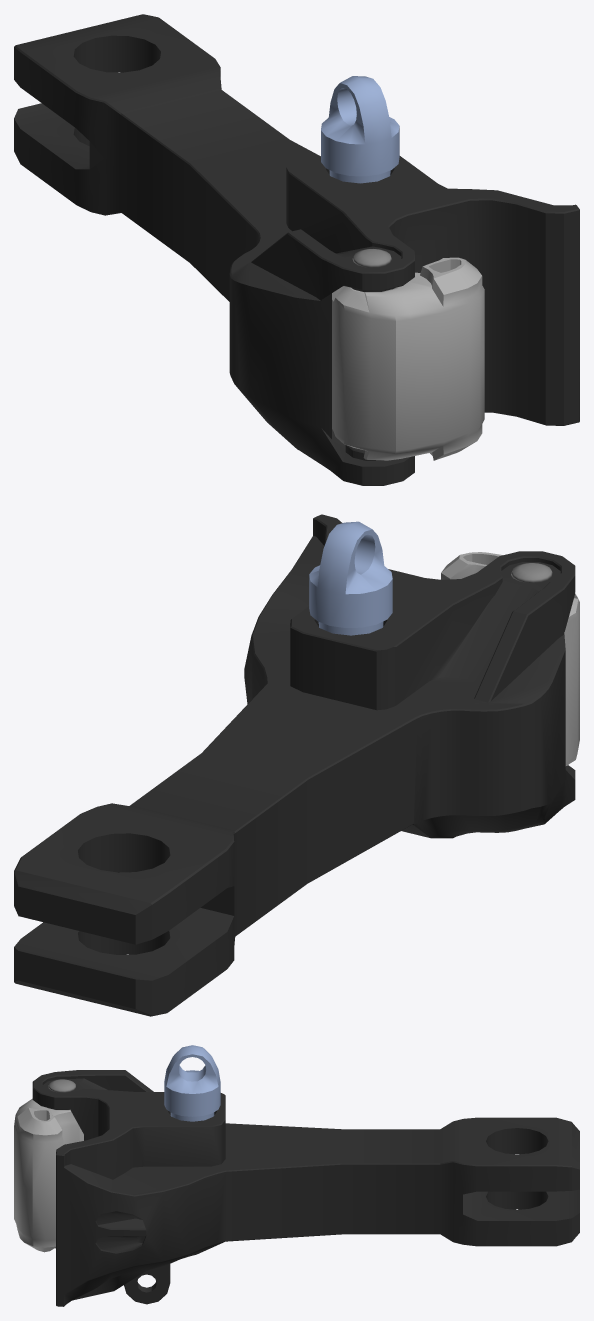
The model's file is Connector_Knuckle.fbx.
3 renders of one model, top to bottom at view 1: azimuth 30°, elevation 25°; view 2: azimuth 150°, elevation 25°; view 3: azimuth 270°, elevation 25°, orthographic. The views are drawn at different scales.
Visible parts, largest first — view 1: Connector, Knuckle, Circle, Pin; view 2: Connector, Circle, Knuckle, Pin; view 3: Connector, Knuckle, Circle.
Part boxes in pixels (x1,y1,x2,y2): Connector: (14,14,579,485); Knuckle: (332,257,484,460); Circle: (321,76,399,183); Pin: (352,248,391,267); Connector: (14,514,575,1016); Circle: (309,521,392,635); Knuckle: (441,552,579,765); Pin: (511,563,552,582); Connector: (32,1070,579,1306); Knuckle: (14,1098,83,1252); Circle: (164,1045,220,1121).
Size of the model in its own units: 40.54 by 46.21 by 97.67.
